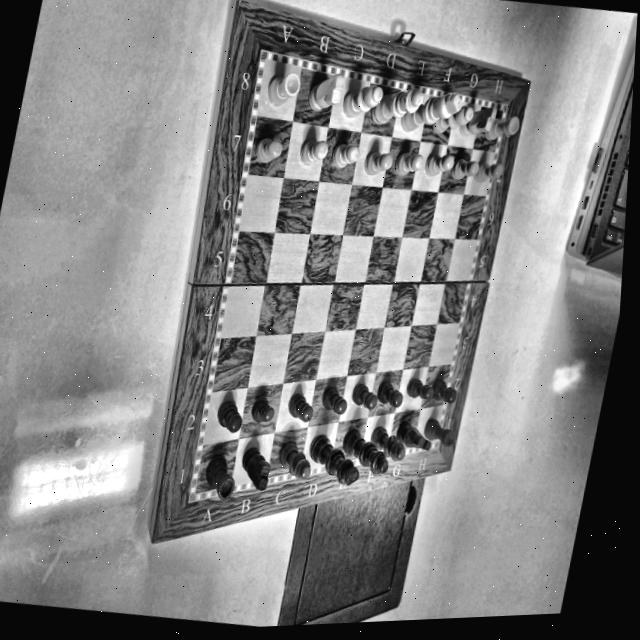black-bishop: (272, 435, 314, 490), (365, 422, 409, 465)
black-king: (305, 434, 363, 493)
black-knight: (234, 442, 277, 496), (393, 420, 435, 458)
black-pawn: (315, 376, 354, 428), (346, 378, 384, 416), (425, 374, 464, 411), (371, 377, 406, 417), (282, 390, 318, 428), (210, 400, 246, 435), (403, 375, 436, 408), (247, 397, 276, 427)
black-queen: (337, 429, 396, 475)
black-rook: (202, 458, 239, 501), (424, 418, 458, 448)
white-bishop: (336, 71, 387, 130), (432, 104, 477, 141)
white-king: (402, 86, 466, 140)
white-knight: (302, 65, 347, 123), (464, 101, 501, 142)
white-pawn: (250, 127, 287, 172), (446, 148, 482, 193), (470, 153, 506, 196), (326, 137, 363, 178), (387, 146, 423, 188), (360, 145, 398, 183), (415, 150, 457, 182), (294, 136, 330, 170)
white-queen: (368, 82, 425, 135)
white-rook: (483, 108, 525, 149), (261, 71, 302, 113)
